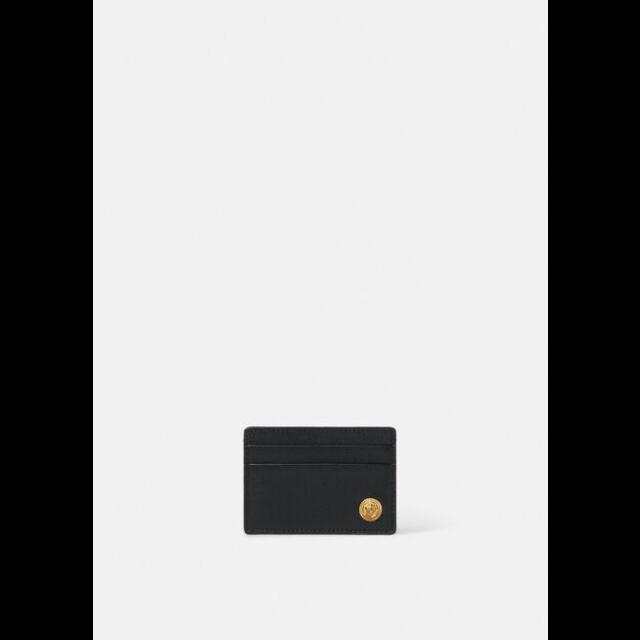wallet: (238, 421, 400, 541)
